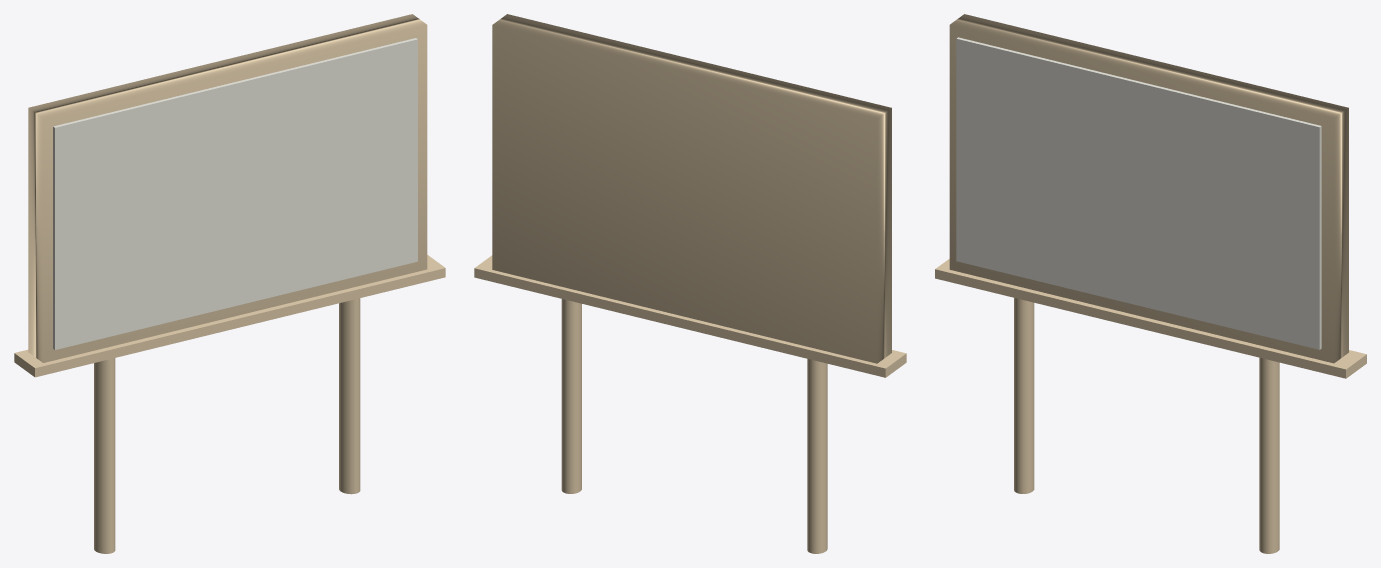
The model's file is billboard2.glb.
3 views of the same model, side by side, from view 1: azimuth 30°, elevation 25°; view 2: azimuth 150°, elevation 25°; view 3: azimuth 330°, elevation 25° (orthographic).
Visible parts, largest first — view 1: Billboard.001, Billboard, Platform, Parent.003, Parent.002; view 2: Billboard, Platform, Parent.002, Parent.003; view 3: Billboard.001, Billboard, Platform, Parent.002, Parent.003.
Part boxes in pixels (x1=…): Billboard.001: x1=53, y1=38, x2=417, y2=349; Billboard: x1=28, y1=14, x2=427, y2=362; Platform: x1=14, y1=255, x2=445, y2=377; Parent.003: x1=94, y1=358, x2=115, y2=553; Parent.002: x1=339, y1=298, x2=360, y2=494; Billboard: x1=492, y1=14, x2=891, y2=363; Platform: x1=474, y1=255, x2=906, y2=377; Parent.002: x1=561, y1=299, x2=581, y2=493; Parent.003: x1=807, y1=359, x2=827, y2=553; Billboard.001: x1=956, y1=37, x2=1321, y2=349; Billboard: x1=949, y1=14, x2=1348, y2=363; Platform: x1=935, y1=259, x2=1366, y2=378; Parent.002: x1=1259, y1=357, x2=1279, y2=553; Parent.003: x1=1014, y1=298, x2=1034, y2=493.
Bounding box in the file's own units: 13.52 × 14.22 × 1.19.
